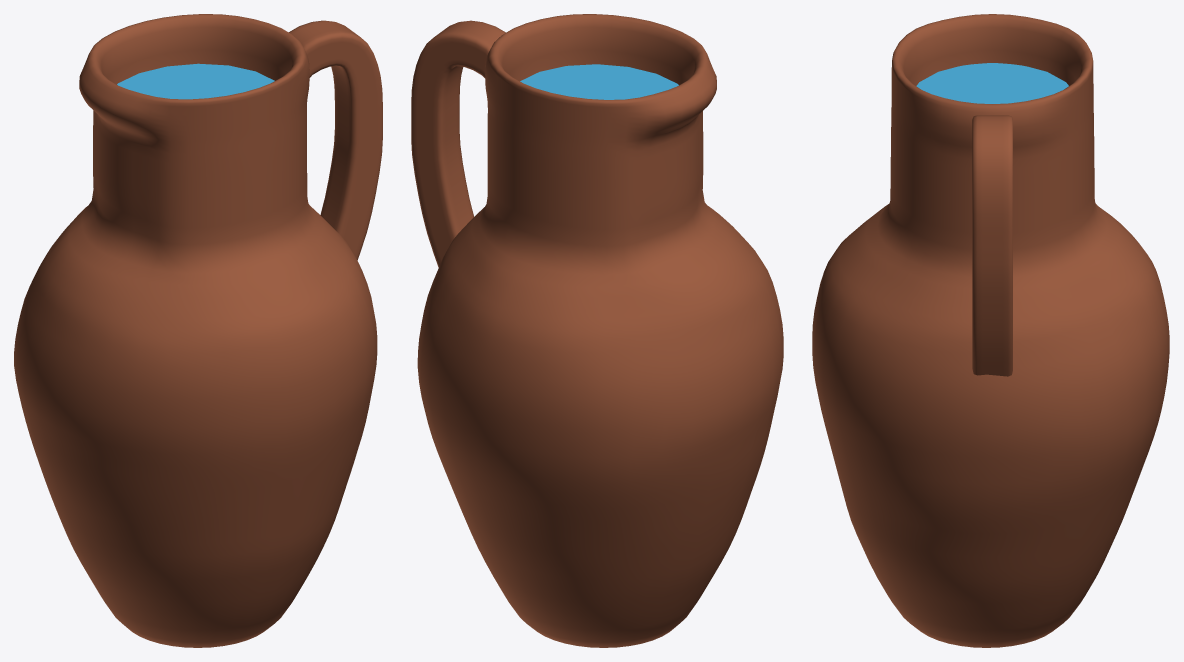
Rendered from Jug_505.obj.
The picture shows the model from 3 angles, left to right: view 1: azimuth 30°, elevation 25°; view 2: azimuth 150°, elevation 25°; view 3: azimuth 270°, elevation 25°; orthographic projection.
Parts seen in each view (by area): view 1: Cylinder002; view 2: Cylinder002; view 3: Cylinder002.
Part boxes in pixels (box(x1,y1,x2,y2)): Cylinder002: box(14, 14, 382, 647); Cylinder002: box(411, 14, 783, 647); Cylinder002: box(812, 14, 1169, 647).
Size of the model in its own units: 21.79 by 34.82 by 19.99.
